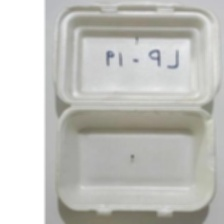foam_box: (47, 0, 224, 220)
